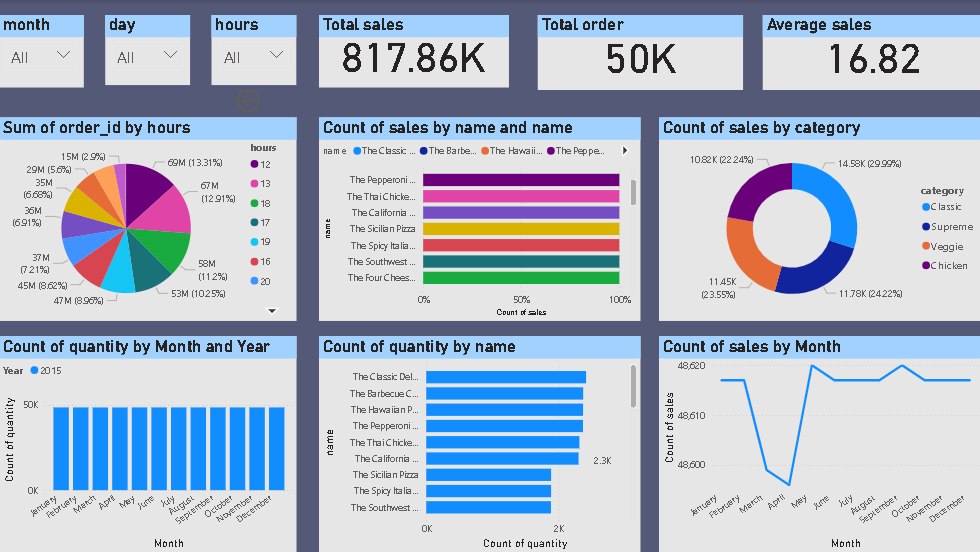

This screenshot's page, from the dashboard's own definition file:
{"tool":"powerbi","page":{"name":"Page 1","canvas":[1280,720],"ordinal":0},"visuals":[{"type":"slicer","title":"day","fields":{"Values":["order.day"]},"box":[138.3,19.5,110.6,91.1],"z":0},{"type":"slicer","title":"hours","fields":{"Values":["order.hours"]},"box":[276.6,19.5,110.6,91.1],"z":1000},{"type":"columnChart","title":"Orders by Month","fields":{"Y":["CountNonNull(orderdetails.quantity)"],"Category":["order.date.Variation.Date Hierarchy.Month"],"Series":["order.date.Variation.Date Hierarchy.Year"]},"box":[0,437.6,387.2,283.1],"z":2000},{"type":"card","title":"Total sales","fields":{"Values":["Sum(orderdetails.total price)"]},"box":[416.5,19.5,247.3,94.4],"z":3000},{"type":"clusteredBarChart","title":"Top Pizzas by Quantity Sold","fields":{"Y":["CountNonNull(orderdetails.quantity)"],"Category":["pizzatypes.name"]},"box":[416.5,437.6,418.1,283.1],"z":4000},{"type":"hundredPercentStackedBarChart","title":"Top Pizzas by Sales (₹)","fields":{"Category":["pizzatypes.name"],"Y":["CountNonNull(orderdetails.total price)"],"Series":["pizzatypes.name"]},"box":[416.5,152.9,418.1,265.2],"z":5000},{"type":"pieChart","title":"Orders by Hour of Day","fields":{"Y":["Sum(order.order_id)"],"Category":["order.hours"]},"box":[0,152.9,387.2,265.2],"z":6000},{"type":"donutChart","title":"Sales by Pizza Category","fields":{"Y":["CountNonNull(orderdetails.total price)"],"Category":["pizzatypes.category"]},"box":[859,152.9,421.4,265.2],"z":7000},{"type":"lineChart","title":"Monthly Sales Trend","fields":{"Category":["order.date.Variation.Date Hierarchy.Month","order.date.Variation.Date Hierarchy.Day"],"Y":["CountNonNull(orderdetails.total price)"]},"box":[859,437.6,421.4,283.1],"z":8000},{"type":"card","title":"Total Orders","fields":{"Values":["Sum(order.orderdetails.quantity)"]},"box":[701.2,19.5,266.8,97.6],"z":9000},{"type":"card","title":"Average Order Value","fields":{"Values":["Avg(orderdetails.sales)"]},"box":[994,19.5,286.3,97.6],"z":10000},{"type":"slicer","title":"month","fields":{"Values":["order.date - Copy"]},"box":[0,19.5,110.6,94.4],"z":10001},{"type":"actionButton","box":[304.2,110.6,99.2,40.7],"z":10002}]}

Visuals, with their boxes in screenshot pixels (x1, y1, x2, y2), scaled from the page's 1280x720 canvas onto the 980x552 screenshot:
"day" slicer: box(106, 15, 191, 85)
"hours" slicer: box(212, 15, 296, 85)
"Orders by Month" columnChart: box(0, 335, 296, 551)
"Total sales" card: box(319, 15, 508, 87)
"Top Pizzas by Quantity Sold" clusteredBarChart: box(319, 335, 639, 551)
"Top Pizzas by Sales (₹)" hundredPercentStackedBarChart: box(319, 117, 639, 321)
"Orders by Hour of Day" pieChart: box(0, 117, 296, 321)
"Sales by Pizza Category" donutChart: box(658, 117, 979, 321)
"Monthly Sales Trend" lineChart: box(658, 335, 979, 551)
"Total Orders" card: box(537, 15, 741, 90)
"Average Order Value" card: box(761, 15, 979, 90)
"month" slicer: box(0, 15, 85, 87)
actionButton: box(233, 85, 309, 116)
